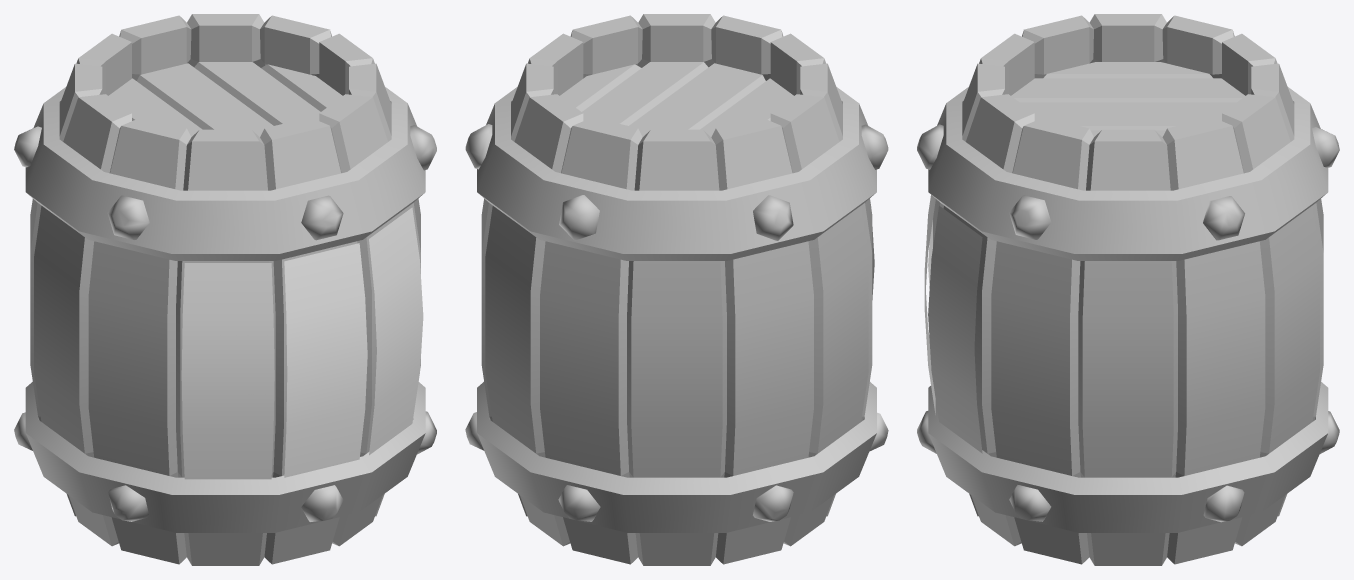
File: M_barrel.fbx
3 views of the same model, side by side, from view 1: azimuth 30°, elevation 25°; view 2: azimuth 150°, elevation 25°; view 3: azimuth 270°, elevation 25° (orthographic).
Parts seen in each view (by area): view 1: M_barrel; view 2: M_barrel; view 3: M_barrel.
Boxes of the visible parts, x1,y1,x2,y2 form: M_barrel: [14, 14, 436, 565]; M_barrel: [465, 14, 888, 565]; M_barrel: [917, 14, 1339, 565].
Size of the model in its own units: 3.69 by 4.32 by 3.89.
